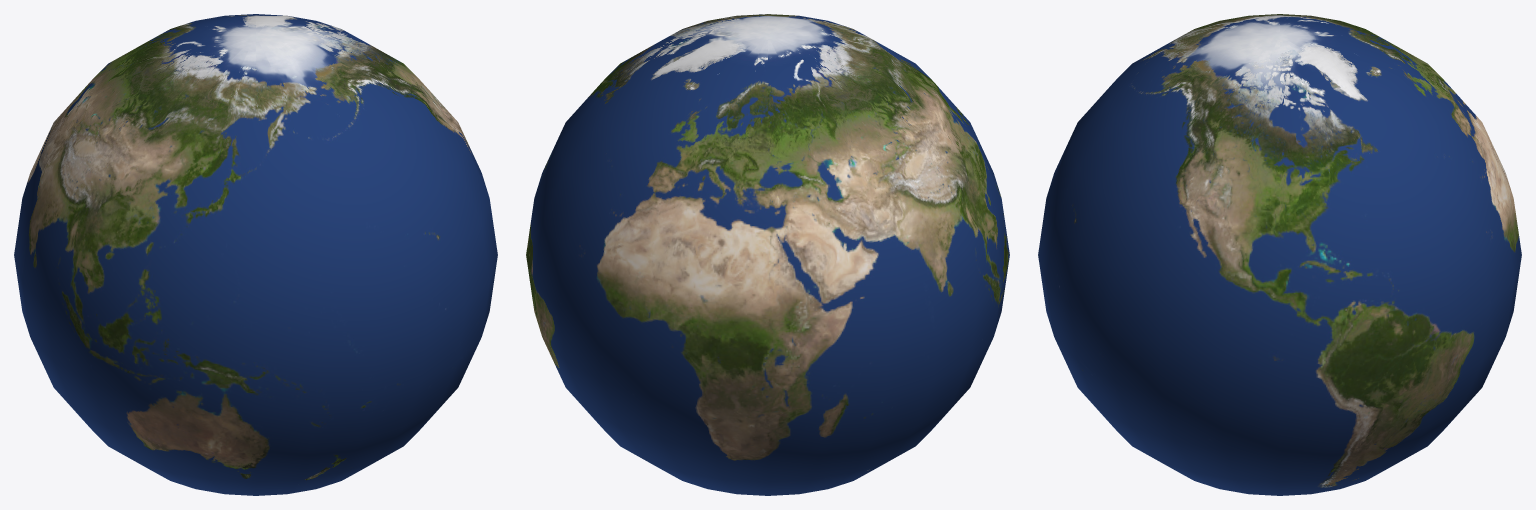
File: earth (3).glb
3 renders of one model, left to right at view 1: azimuth 30°, elevation 25°; view 2: azimuth 150°, elevation 25°; view 3: azimuth 270°, elevation 25°, orthographic.
Parts seen in each view (by area): view 1: Object_2; view 2: Object_2; view 3: Object_2.
Boxes of the visible parts, box(x1,y1,x2,y2) form: Object_2: box(14, 14, 497, 495); Object_2: box(526, 14, 1009, 495); Object_2: box(1038, 14, 1521, 495).
Bounding box in the file's own units: 1 × 1 × 1.
1 material, 1 textured.
